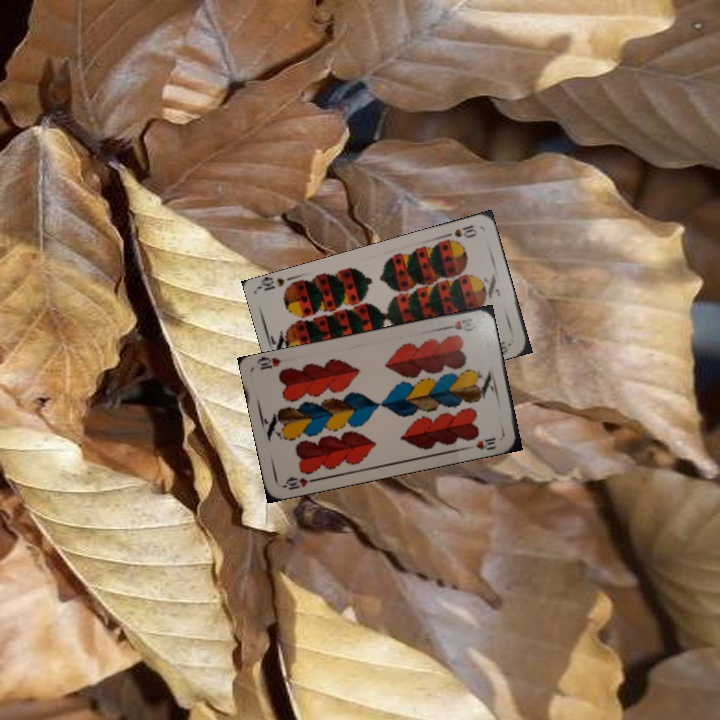H10: (279, 473, 319, 492), (439, 314, 476, 333)
S10: (440, 221, 480, 245)
